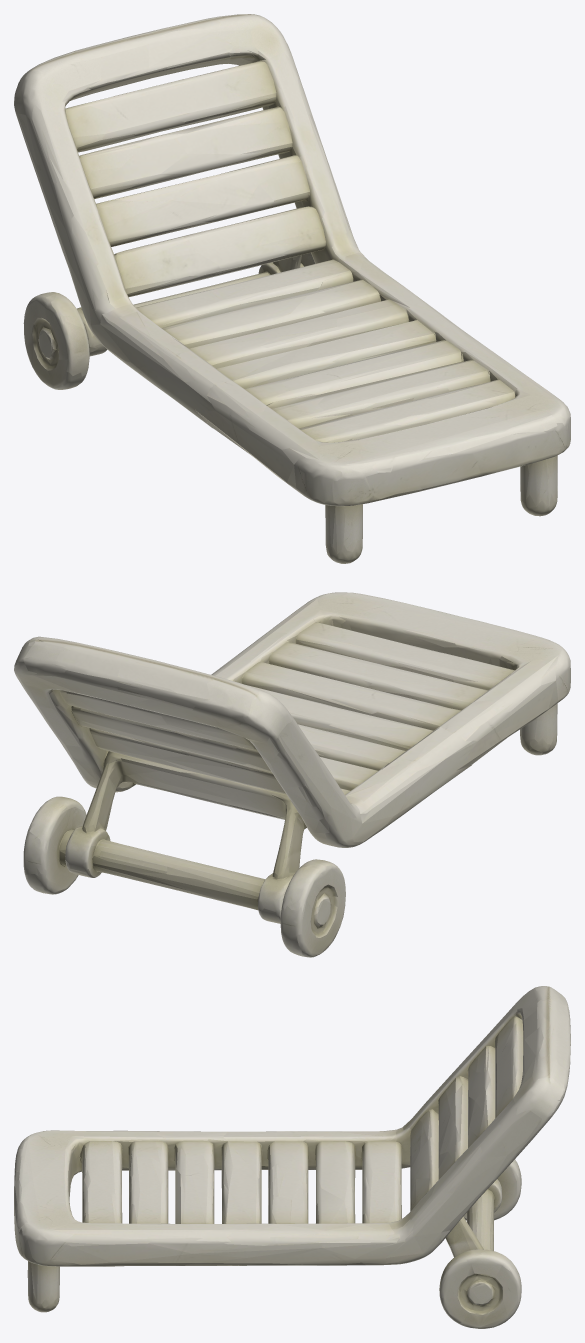
Rendered from lettino_plastica.glb.
3 renders of one model, top to bottom at view 1: azimuth 30°, elevation 25°; view 2: azimuth 150°, elevation 25°; view 3: azimuth 270°, elevation 25°, orthographic. The views are drawn at different scales.
Visible parts, largest first — view 1: Mesh_0; view 2: Mesh_0; view 3: Mesh_0.
Boxes of the visible parts, <box> form: Mesh_0: <box>14,14,570,563</box>; Mesh_0: <box>14,592,570,957</box>; Mesh_0: <box>14,986,570,1328</box>.
Bounding box in the file's own units: 0.9371 × 0.9277 × 1.9.
1 material, 1 textured.
